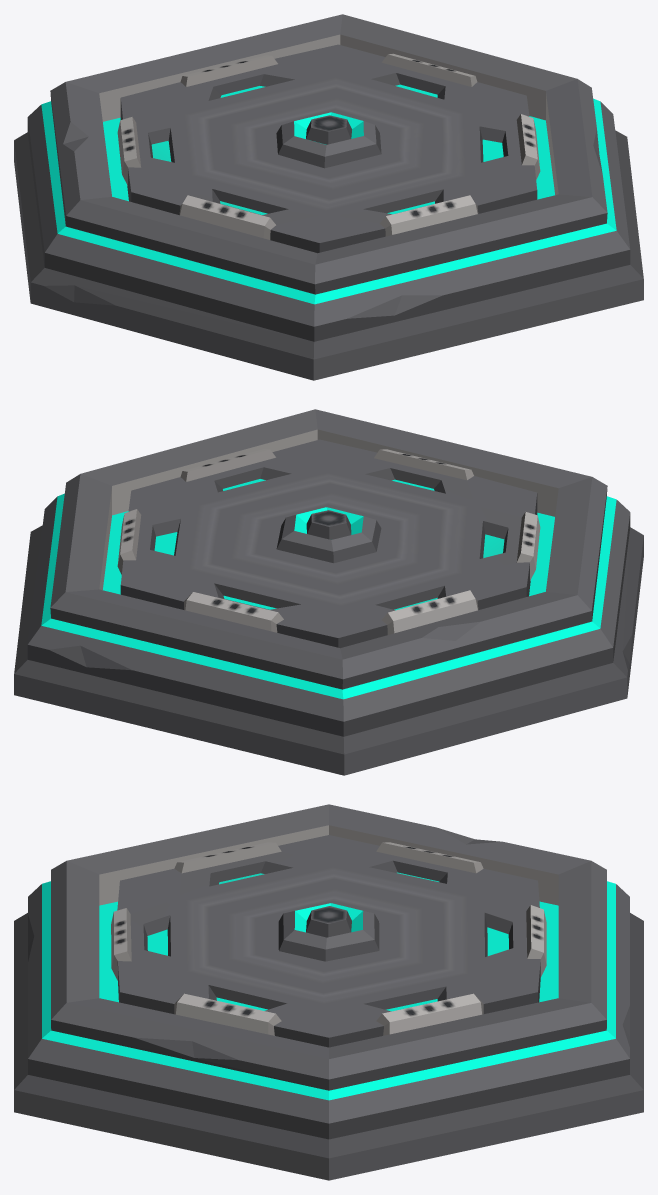
Rendered from SM_Prop_Manholes_07.fbx.
3 views of the same model, one above another, from view 1: azimuth 30°, elevation 25°; view 2: azimuth 150°, elevation 25°; view 3: azimuth 270°, elevation 25° (orthographic). The views are drawn at different scales.
Visible parts, largest first — view 1: SM_Prop_Manholes_07; view 2: SM_Prop_Manholes_07; view 3: SM_Prop_Manholes_07.
Part boxes in pixels (x1,y1,x2,y2): SM_Prop_Manholes_07: (14,14,643,380); SM_Prop_Manholes_07: (14,409,643,775); SM_Prop_Manholes_07: (14,804,643,1180).
Bounding box in the file's own units: 132 × 22.67 × 115.
